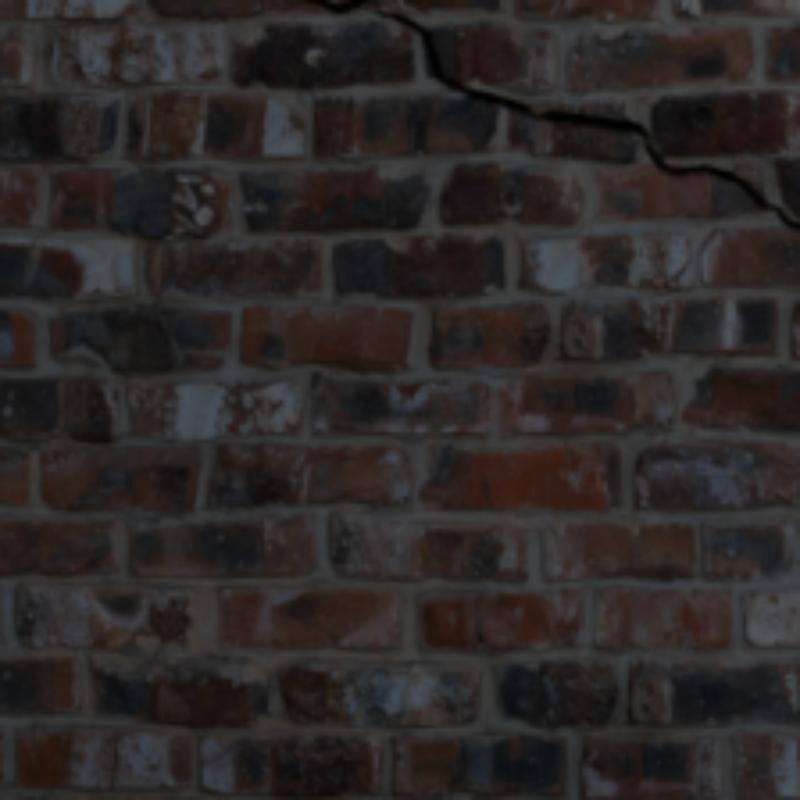pothole: (307, 0, 796, 229), (107, 732, 118, 786), (668, 264, 689, 279)
